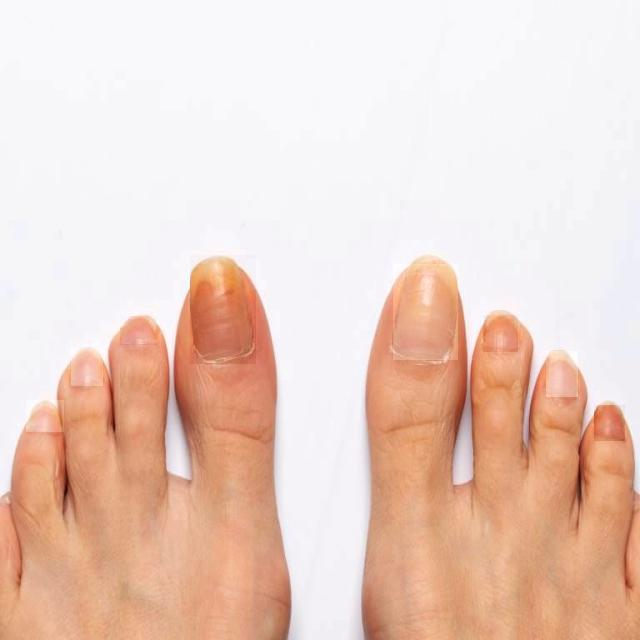diabetes: (191, 256, 256, 364), (394, 265, 458, 360), (546, 351, 578, 397), (483, 315, 518, 352), (26, 400, 64, 432), (71, 350, 103, 386), (120, 316, 158, 345)
sehat: (595, 406, 625, 441)
